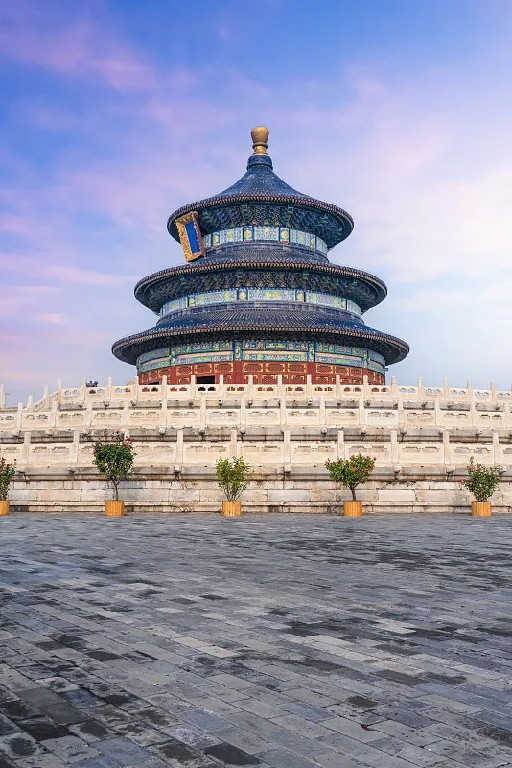Heaven: (110, 125, 410, 387)
